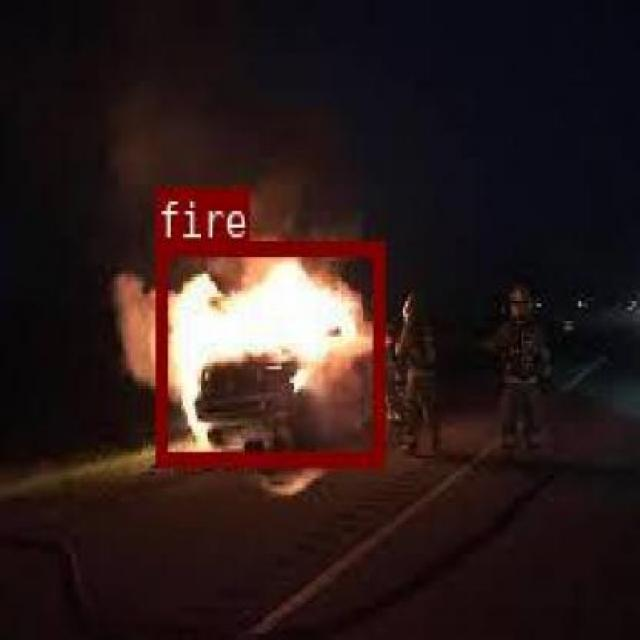Fire: (154, 238, 382, 464)
